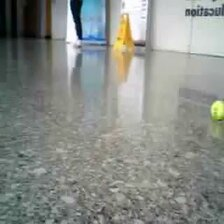tennis: (210, 100, 224, 120)
